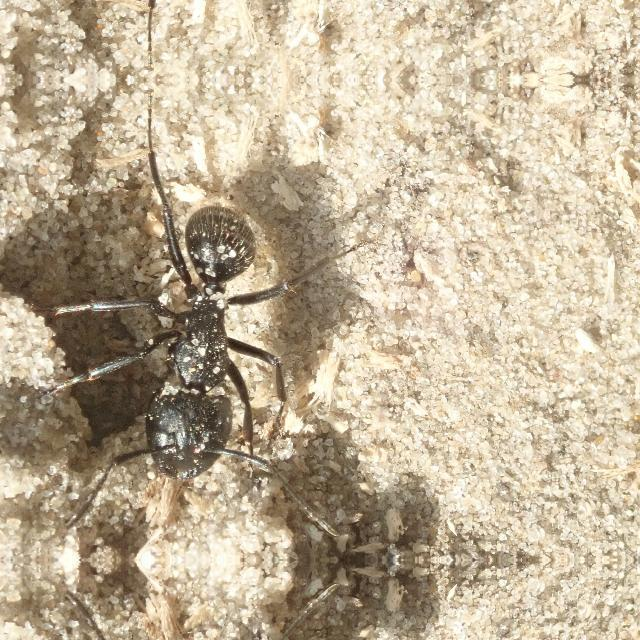Camponotus: (106, 190, 300, 484)
